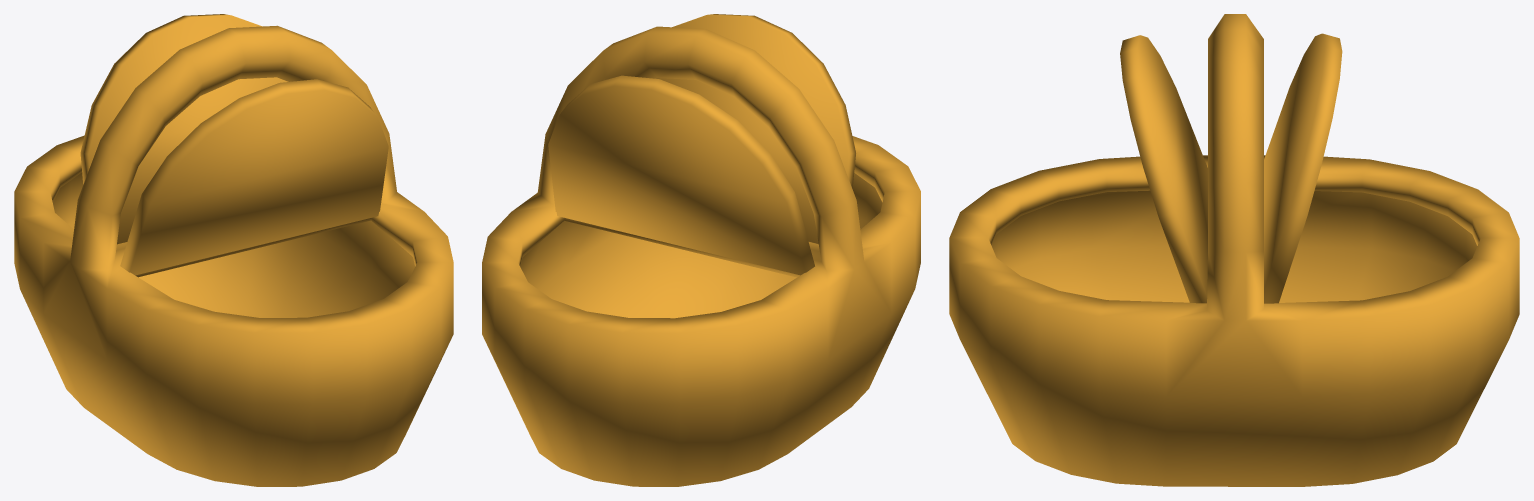
Rendered from Basket.fbx.
The picture shows the model from 3 angles, left to right: view 1: azimuth 30°, elevation 25°; view 2: azimuth 150°, elevation 25°; view 3: azimuth 270°, elevation 25°; orthographic projection. The views are drawn at different scales.
Parts seen in each view (by area): view 1: Basket_L, Basket Flaps_L; view 2: Basket_L, Basket Flaps_L; view 3: Basket_L, Basket Flaps_L.
Part boxes in pixels (x1=…): Basket_L: x1=14, y1=25, x2=453, y2=486; Basket Flaps_L: x1=80, y1=14, x2=388, y2=275; Basket_L: x1=482, y1=26, x2=920, y2=486; Basket Flaps_L: x1=548, y1=14, x2=855, y2=275; Basket_L: x1=949, y1=14, x2=1519, y2=486; Basket Flaps_L: x1=1120, y1=33, x2=1342, y2=303.
Size of the model in its own units: 200 by 291 by 223.
